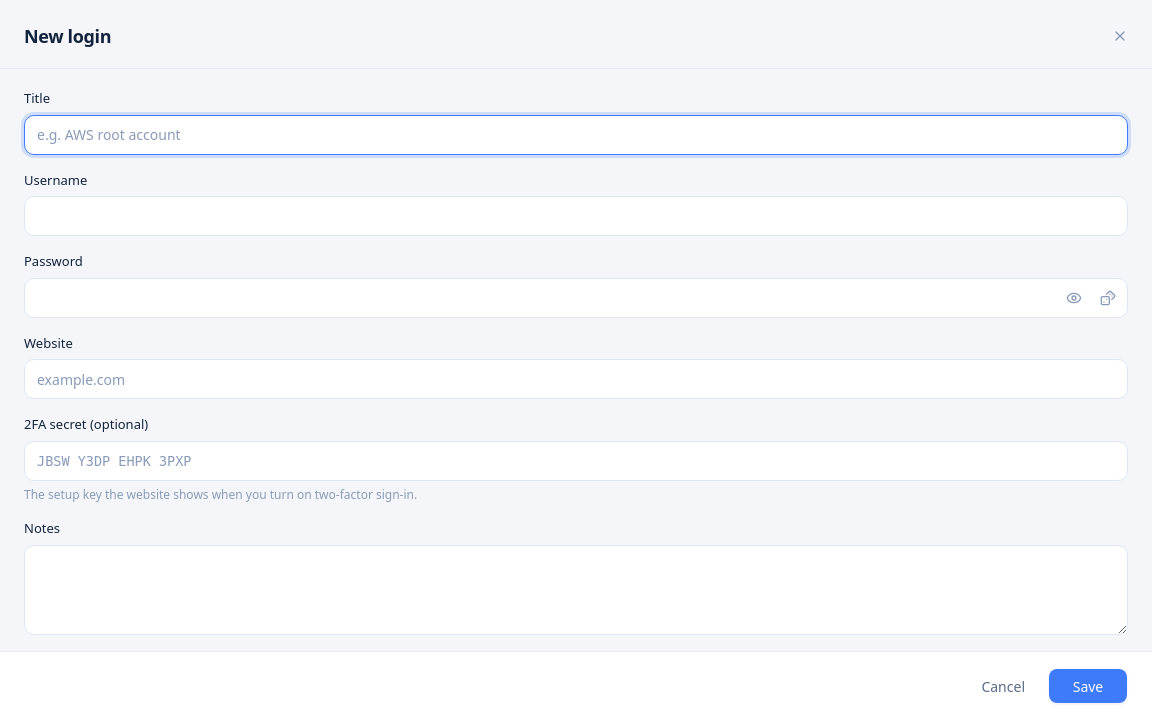
Test case: RecordEditor › rejects an invalid 2FA secret
The width and height of the screenshot is (1152, 720).
Type "X" into the field labelled "Title" at (576, 134), box [24, 114, 1128, 154]
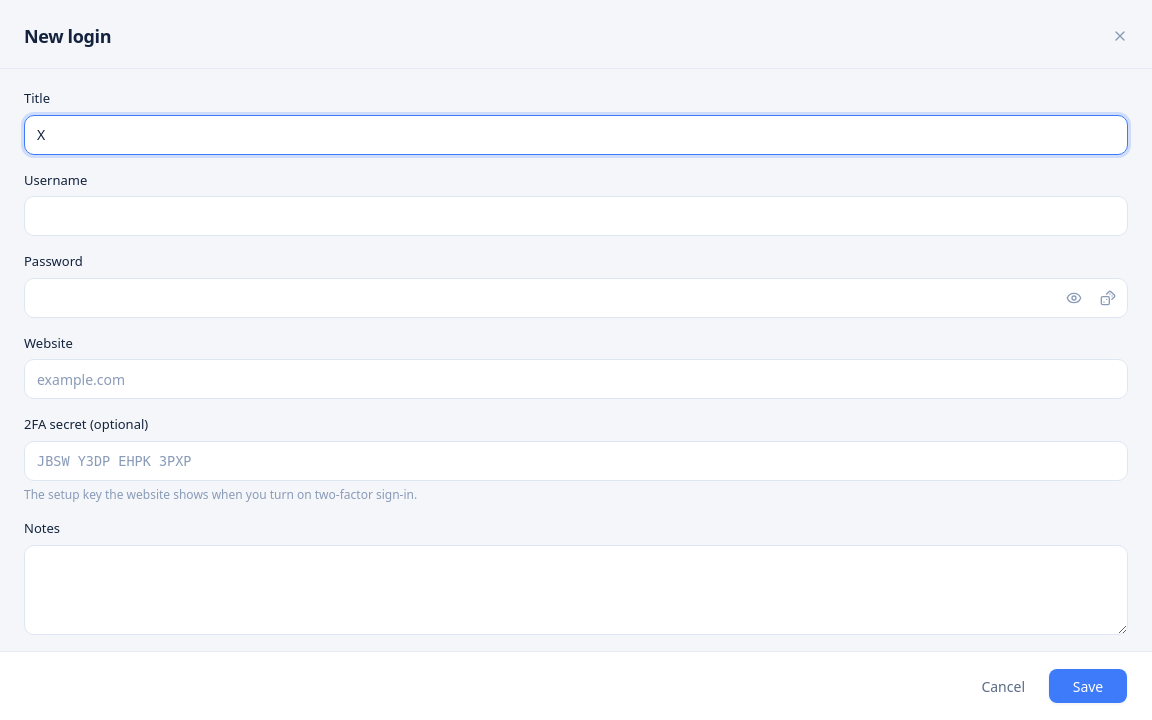
Type "not base32!" into the field labelled "2FA secret (optional)" at (576, 460), box [24, 440, 1128, 480]
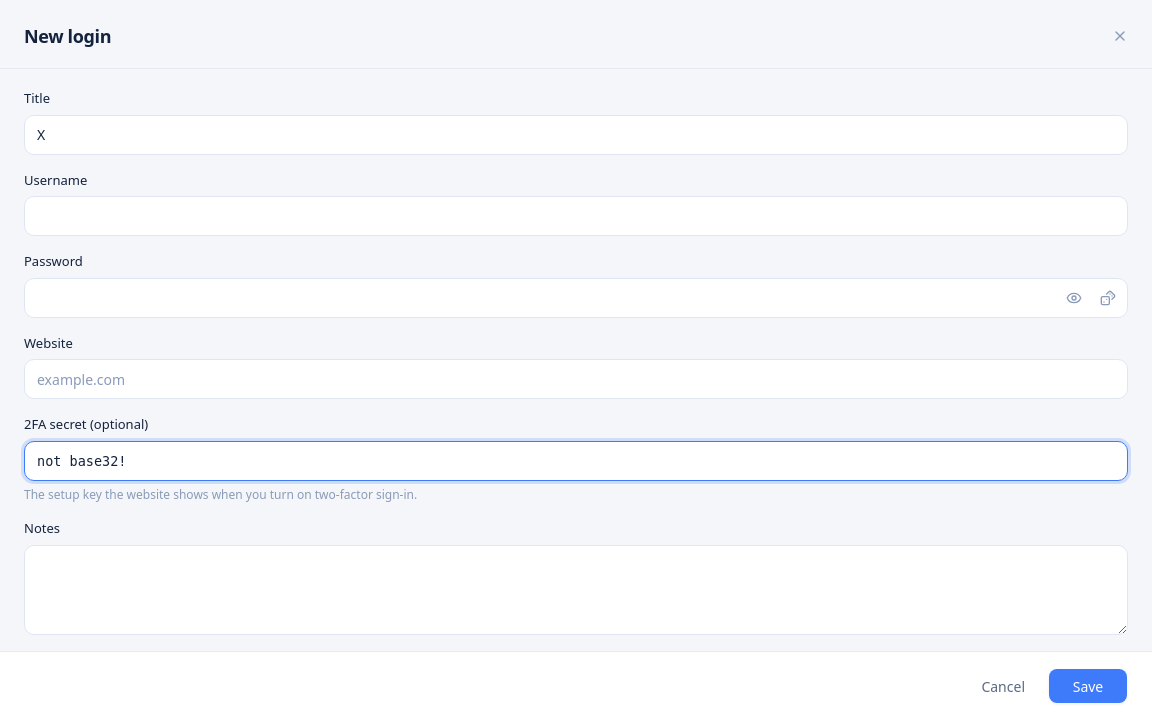
Click the button "Save" at (1088, 686), box [1048, 668, 1128, 704]
(page scrolled)
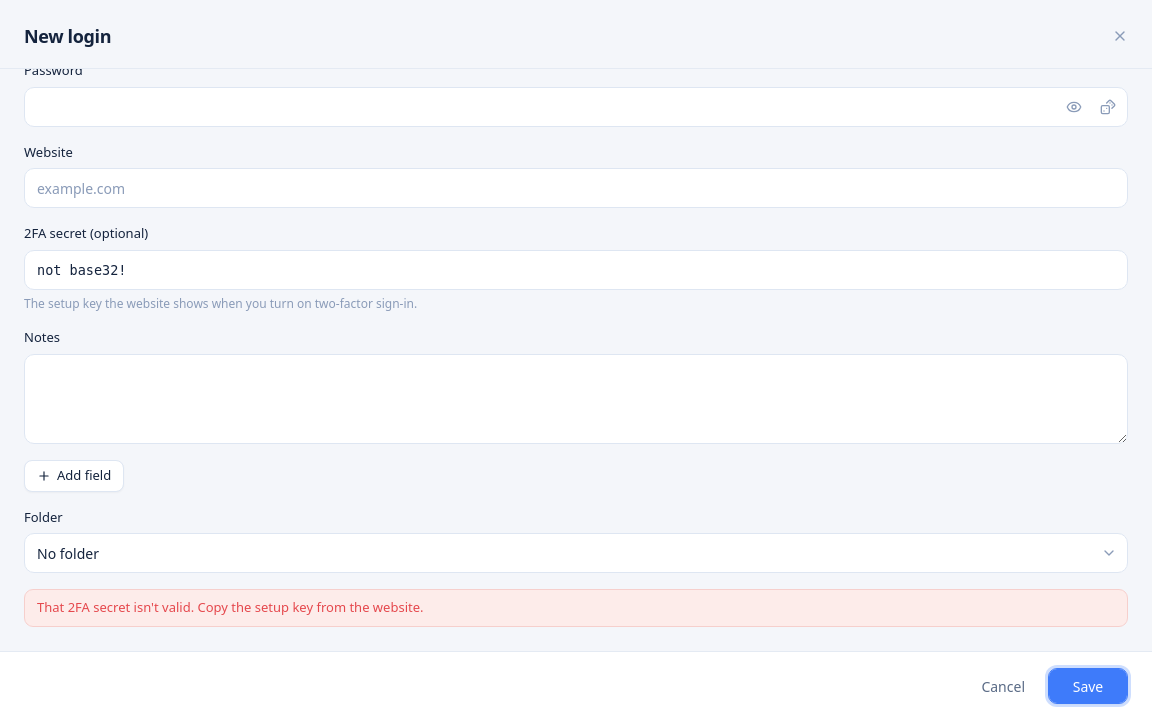
expect the message reads "That 2FA secret isn't valid. Copy the setup key from the website.": met, box [37, 598, 424, 616]
